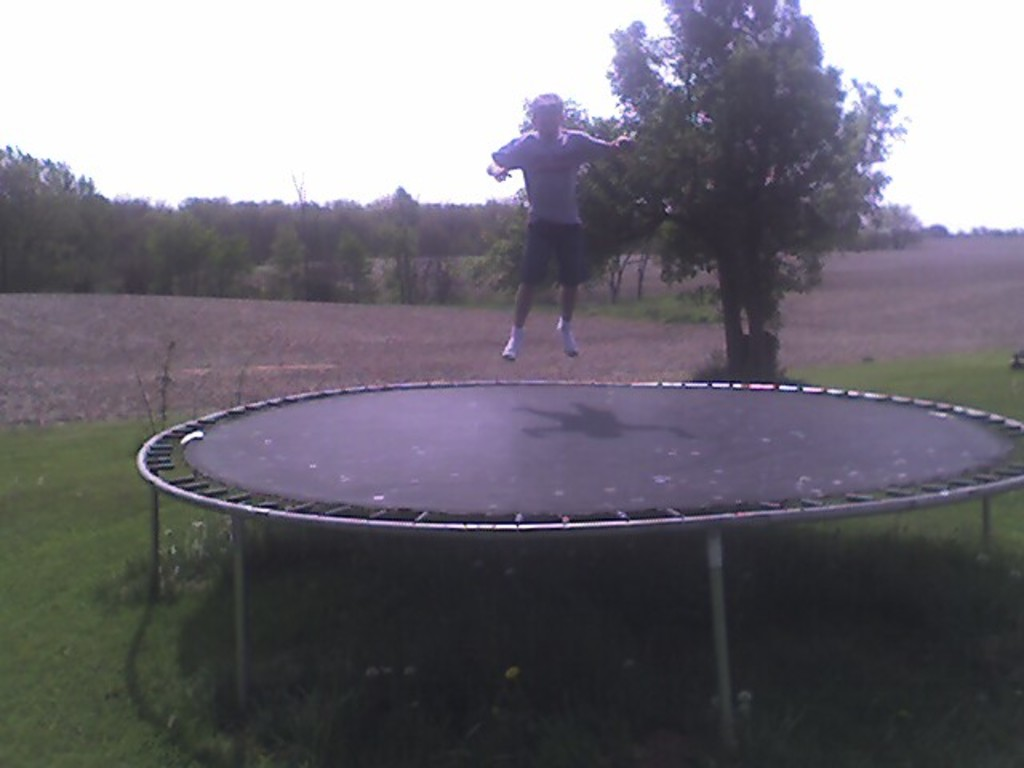person: (485, 91, 636, 362)
